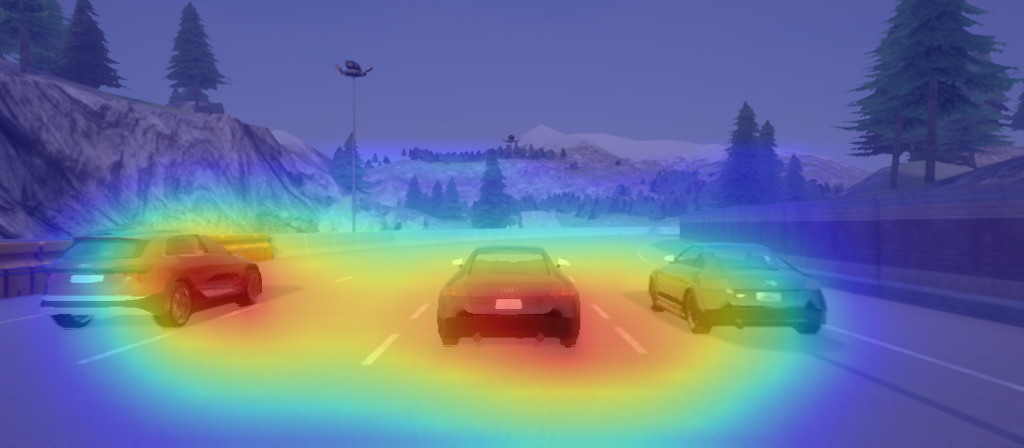Barrier: (831, 211, 1017, 283)
Car: (37, 224, 268, 335), (644, 239, 836, 339), (433, 242, 589, 352)
Lane Marker: (70, 330, 176, 367), (355, 329, 403, 370), (609, 322, 653, 358), (587, 296, 614, 323), (407, 300, 436, 321), (333, 272, 357, 284)
Light Pole: (330, 57, 376, 232)
